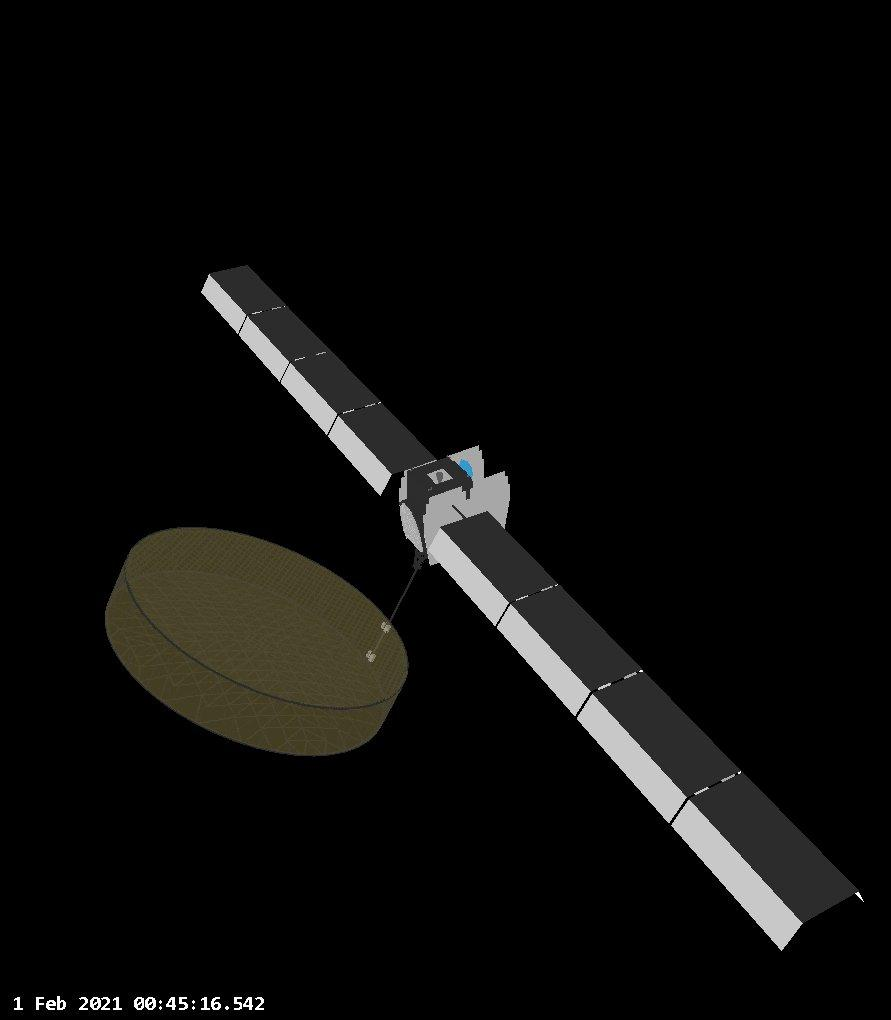body: (398, 455, 477, 557)
solar: (429, 505, 866, 950), (197, 256, 437, 501)
thruster: (436, 471, 444, 484)
